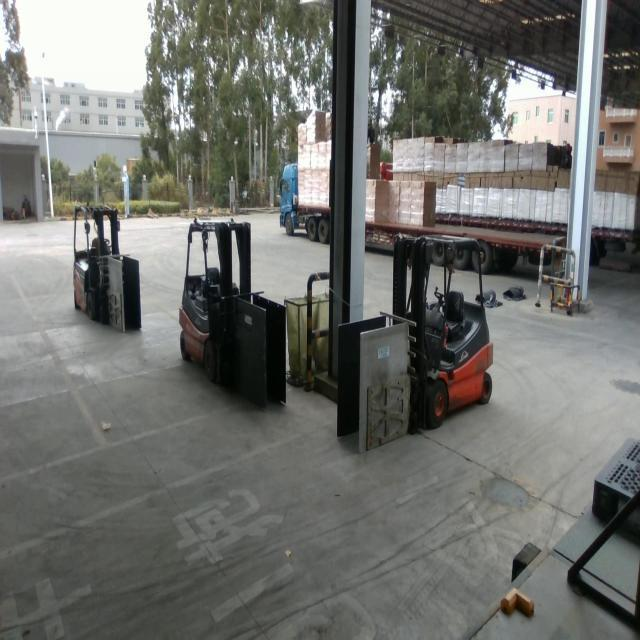forklift: (393, 229, 496, 425), (178, 211, 253, 379), (71, 203, 122, 327)
